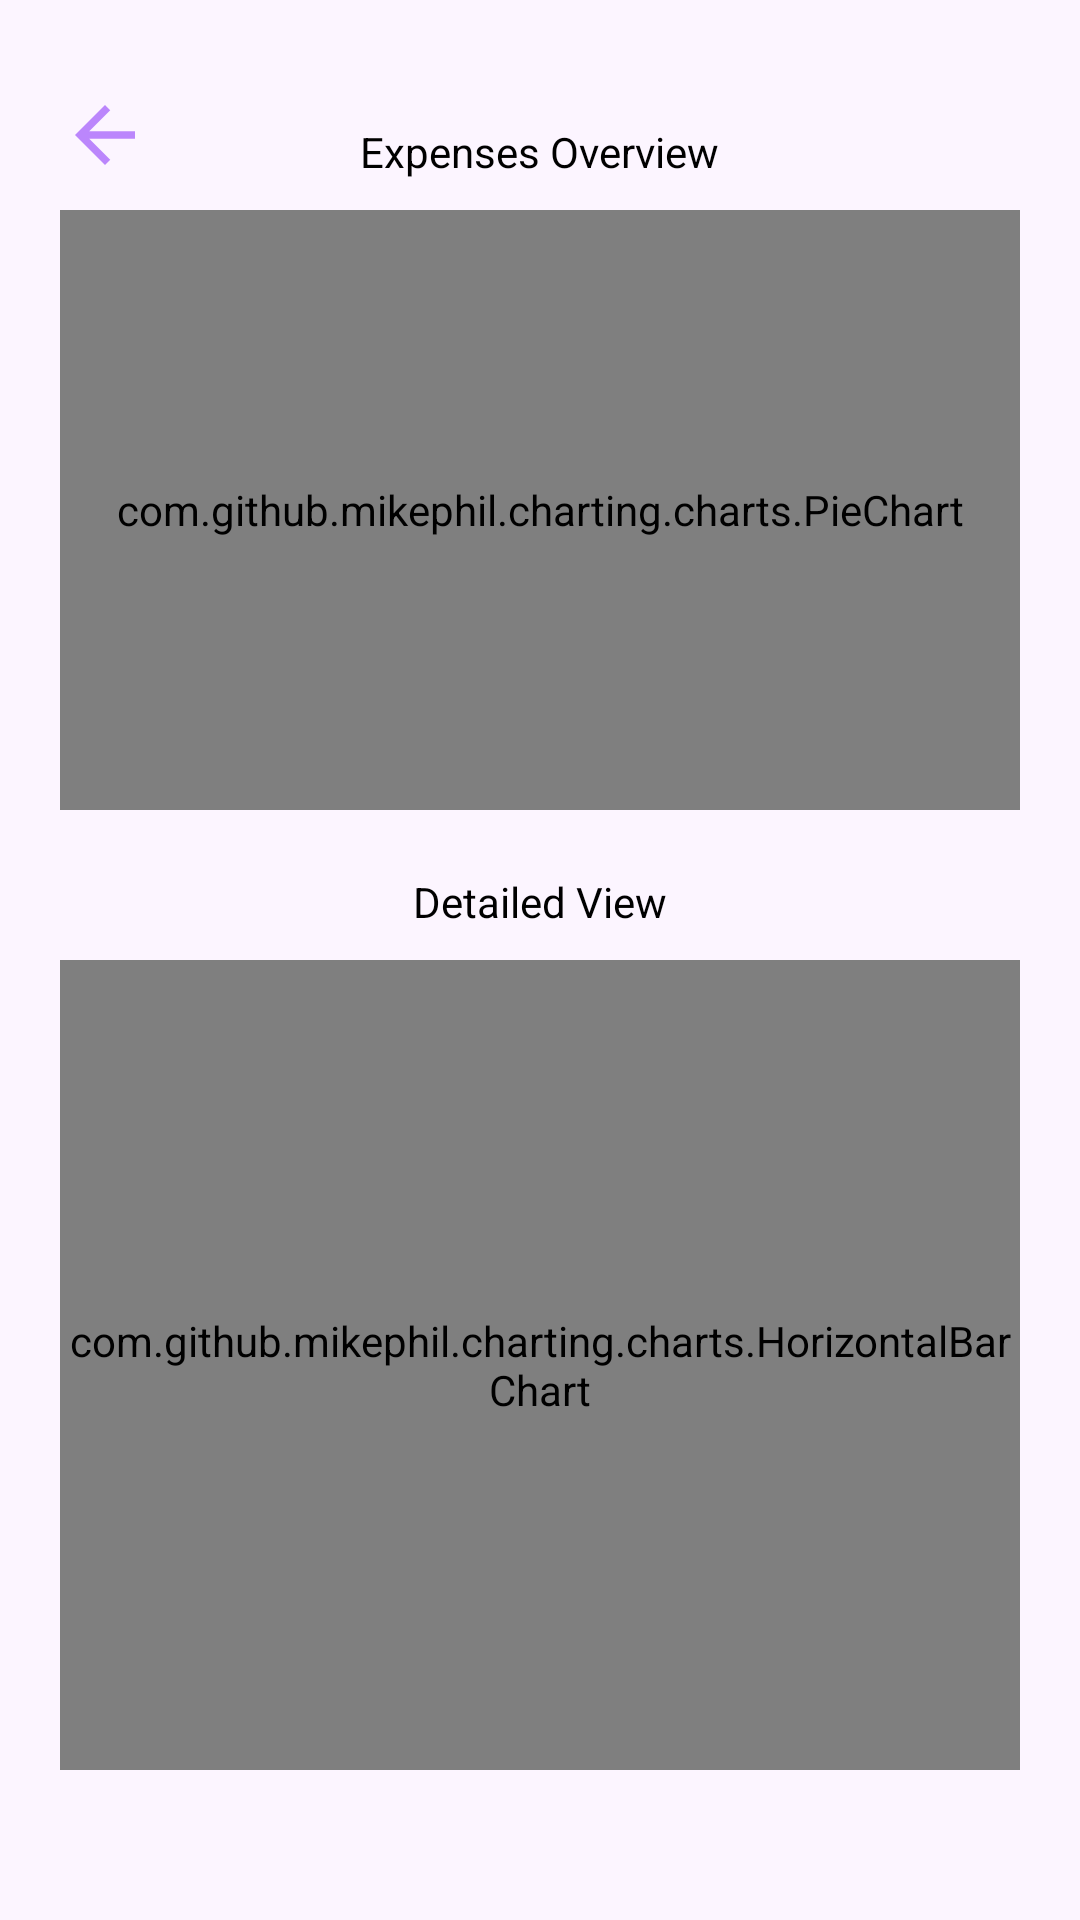

Screen size 1080 x 1920. Icon name, then its box in pixels as (x1, y1, x2, y2):
Go Back Button: (75, 105, 135, 165)
